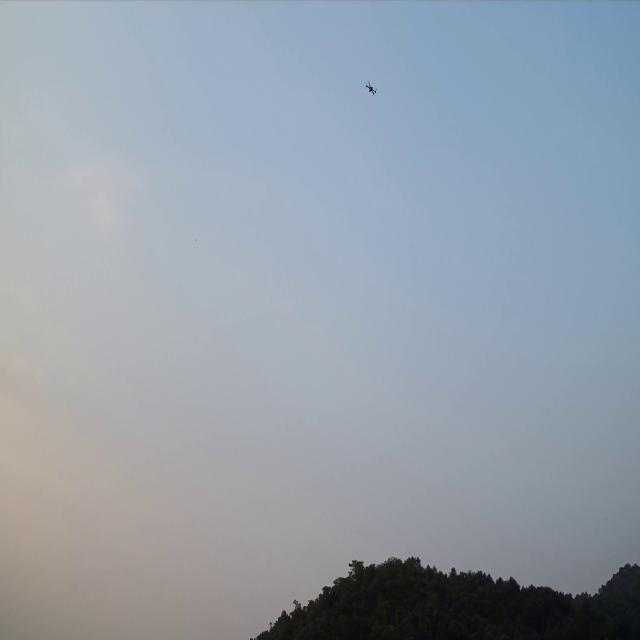UAV: (365, 80, 377, 98)
